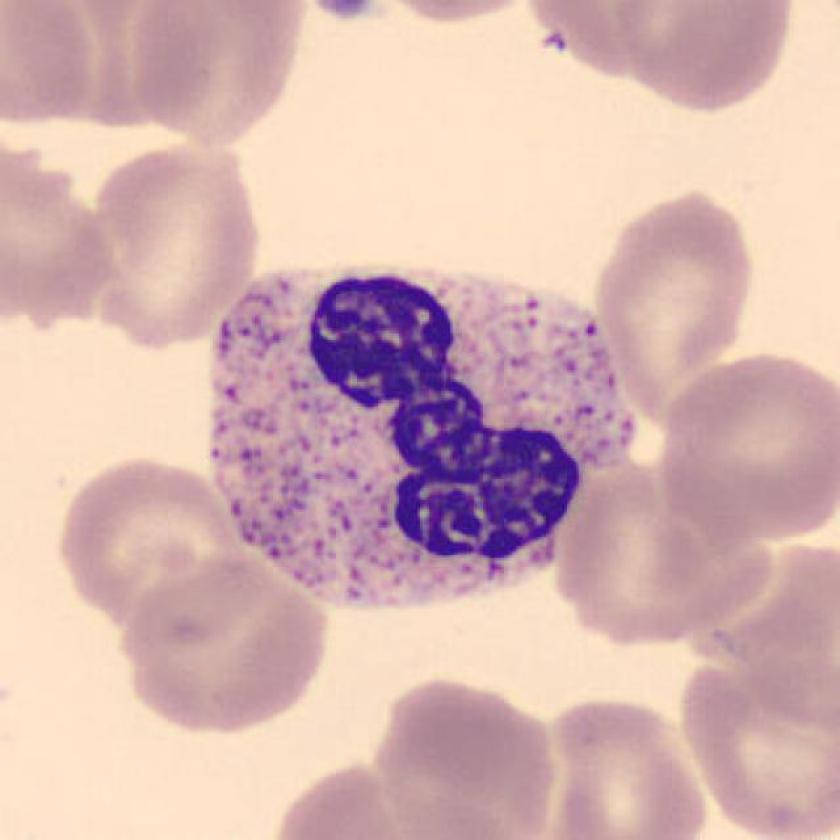neutrophil: (211, 268, 643, 609)
